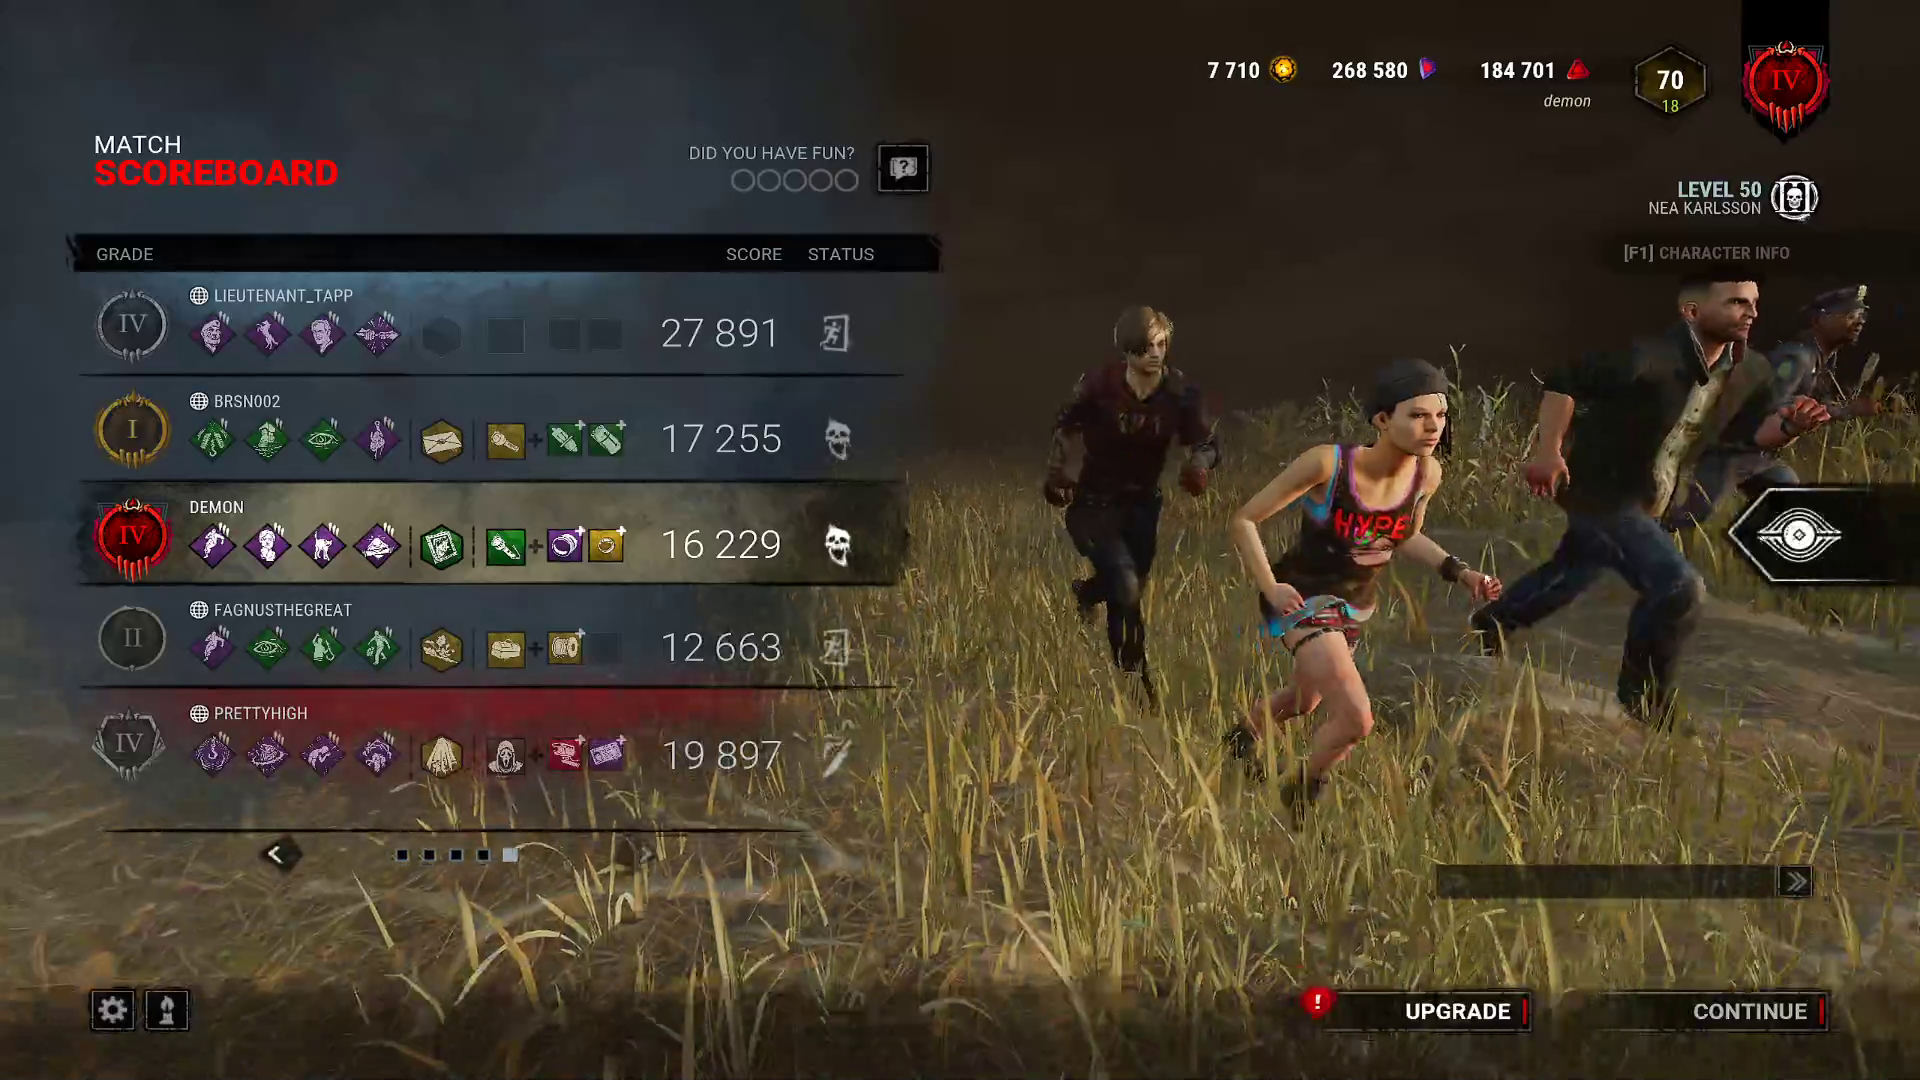boil_over: (243, 313, 291, 357)
dead_hard: (187, 626, 236, 673), (187, 524, 236, 568)
fearmonger: (298, 735, 347, 781)
flip_flop: (295, 313, 345, 357)
furtive_chase: (187, 733, 236, 779)
iron_will: (351, 524, 400, 568)
jolt: (243, 732, 291, 778)
kindred: (297, 415, 345, 462), (243, 626, 291, 673)
kinship: (186, 418, 235, 464)
power_struggle: (352, 313, 401, 357)
resilience: (243, 524, 291, 568)
self_aware: (243, 417, 291, 463)
slippery_meat: (353, 415, 402, 462)
spine_chill: (297, 524, 345, 568)
thrilling_tremors: (351, 732, 400, 778)
unbreakable: (189, 313, 237, 357)
well_make_it: (295, 626, 345, 673)
were_gonna_live_forever: (352, 626, 401, 673)
